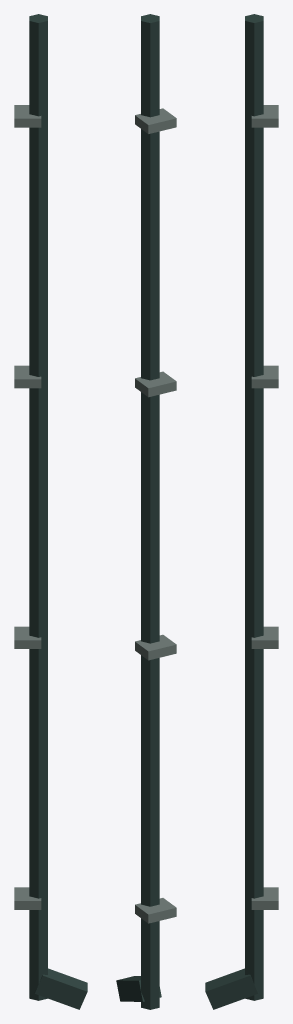
Rendered from Downpipe.obj.
The picture shows the model from 3 angles, left to right: view 1: azimuth 90°, elevation 25°; view 2: azimuth 210°, elevation 25°; view 3: azimuth 270°, elevation 25°; orthographic projection.
Visible parts, largest first — view 1: Downpipe; view 2: Downpipe; view 3: Downpipe.
Boxes of the visible parts, x1,y1,x2,y2 form: Downpipe: (14, 14, 87, 1009); Downpipe: (116, 14, 176, 1009); Downpipe: (205, 14, 278, 1009).
Bounding box in the file's own units: 0.18 × 6.06 × 0.4073.
Materials: 1 (1 with a texture image).
